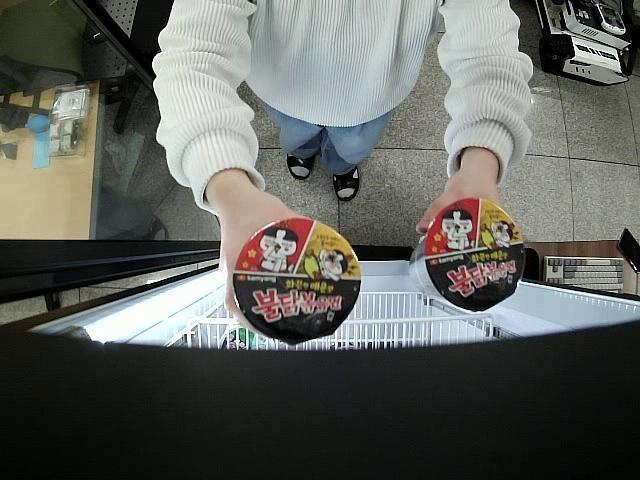08_buldak_S: (232, 216, 362, 344), (402, 196, 527, 310)
